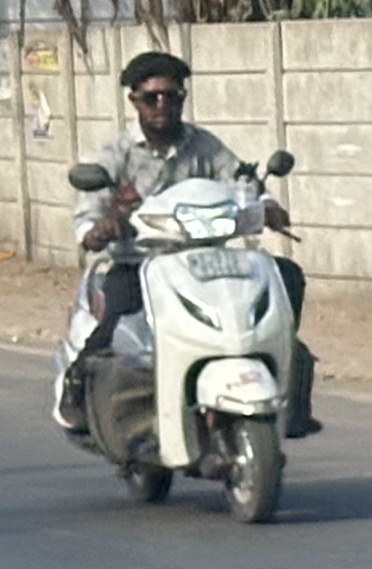BikeWithRider: (47, 41, 331, 525)
NoHelmet: (118, 47, 195, 136)
